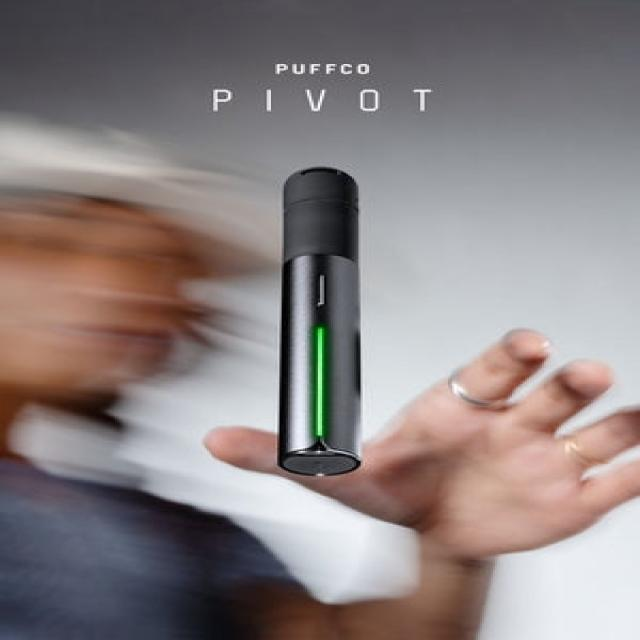Vape-images: (273, 164, 365, 477)
